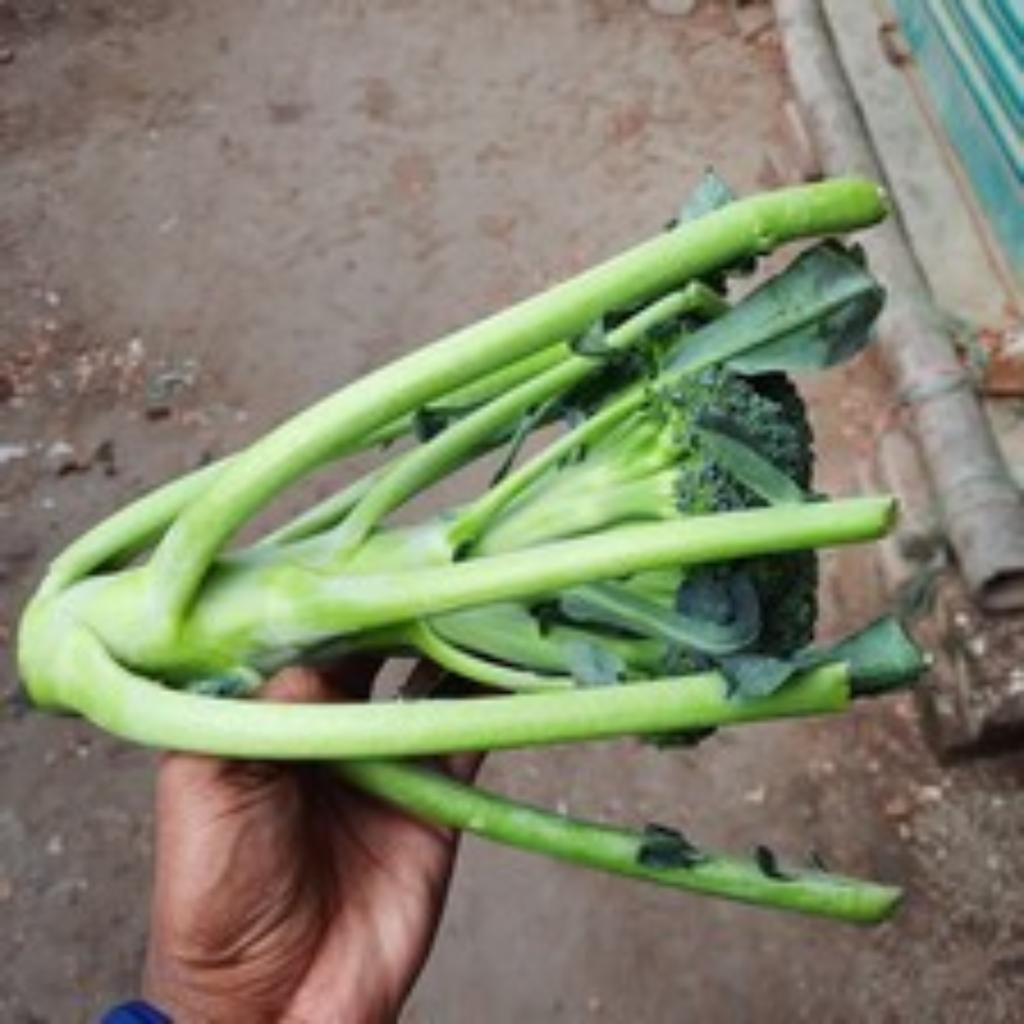Broccoli: (692, 368, 814, 494), (678, 550, 818, 656), (696, 368, 814, 492), (680, 550, 816, 656), (678, 448, 764, 512), (678, 460, 764, 512)
